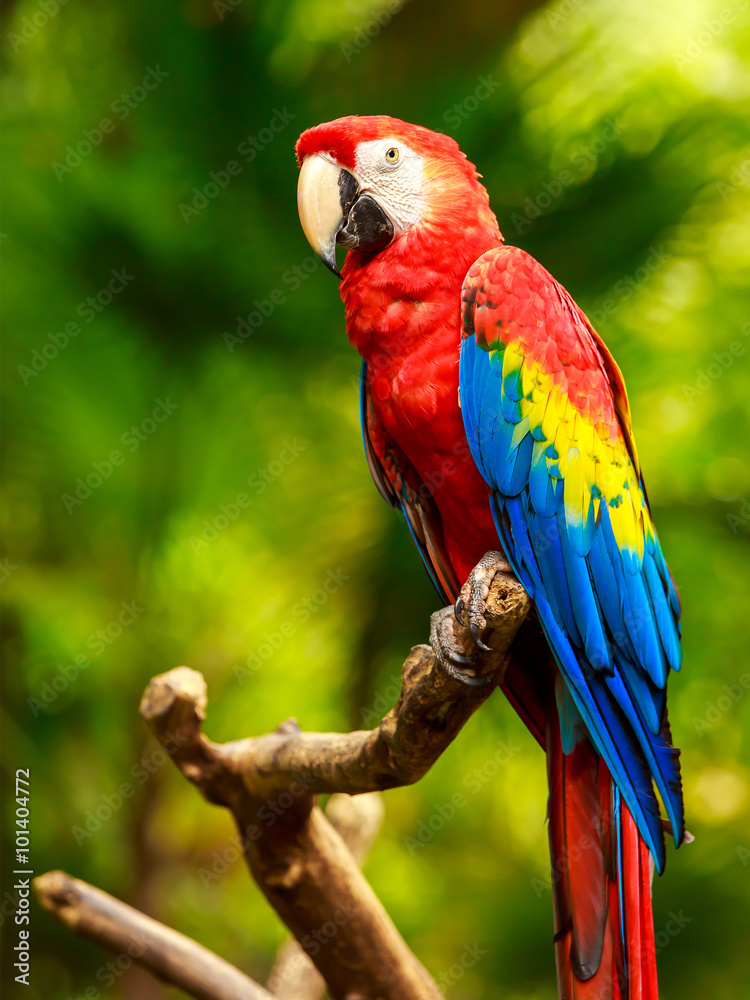Lapa: (272, 98, 711, 1000)
